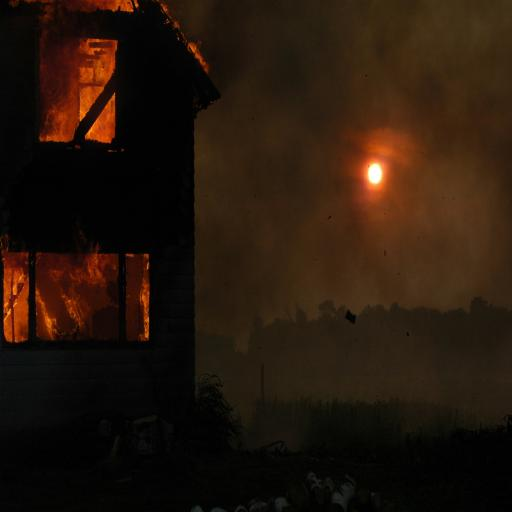buildingfire: (0, 0, 226, 512)
